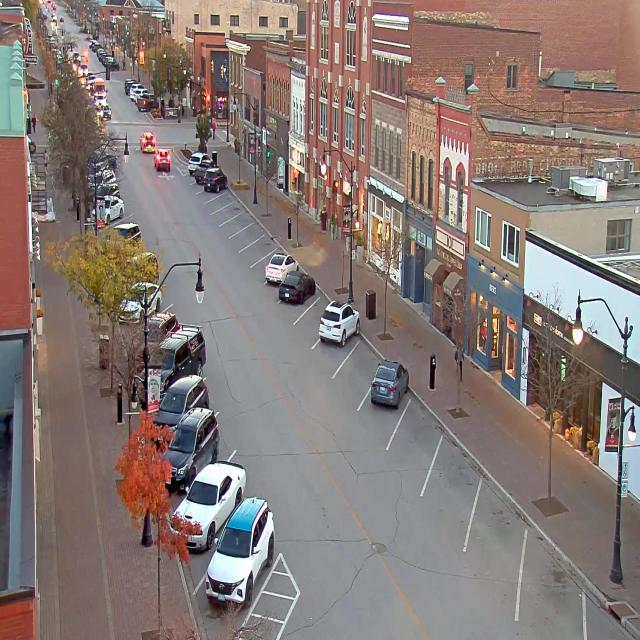available: (512, 531, 590, 639), (415, 438, 482, 518), (472, 486, 528, 570), (392, 390, 445, 467), (578, 588, 638, 640), (344, 330, 383, 392), (300, 287, 332, 335), (250, 258, 266, 280), (242, 242, 256, 264), (222, 218, 238, 236), (233, 230, 245, 250), (214, 208, 229, 223), (208, 198, 222, 212)
occupied: (213, 488, 280, 593), (171, 460, 246, 552), (150, 372, 209, 446), (173, 406, 224, 470), (159, 324, 210, 381), (318, 299, 360, 346), (370, 358, 408, 408), (278, 268, 315, 304), (267, 255, 291, 284), (202, 165, 227, 192), (188, 150, 201, 176), (194, 160, 208, 184)
